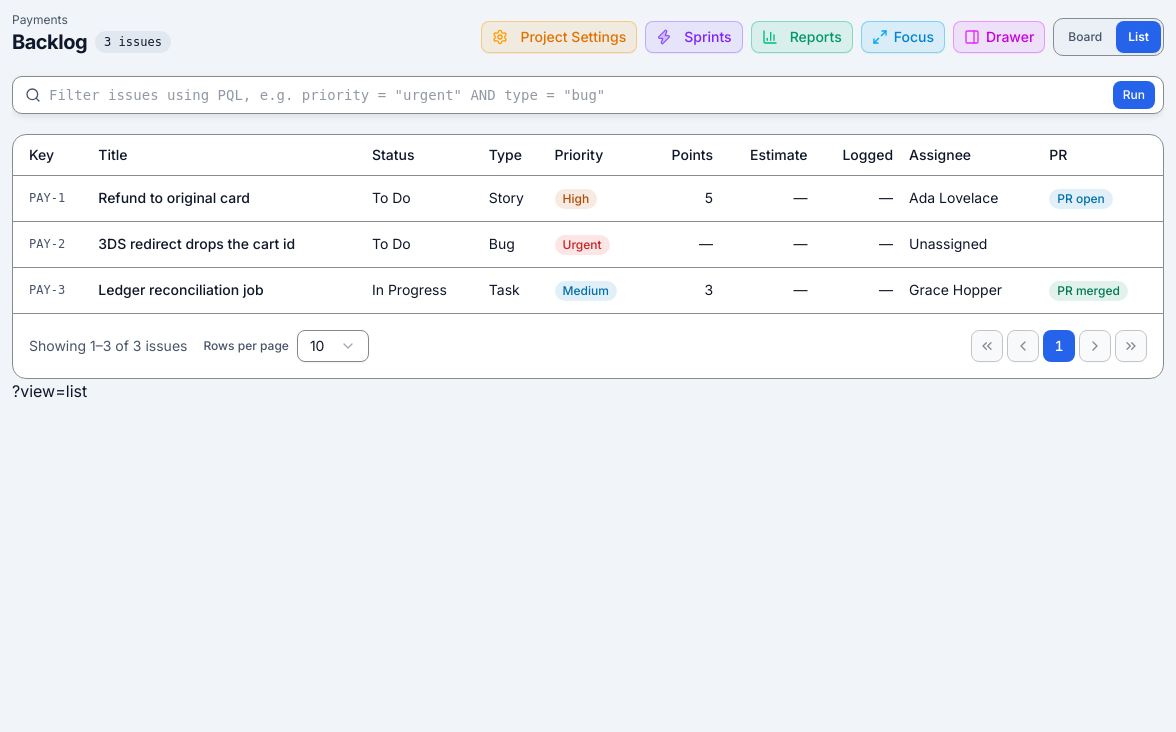
Test: <ListView> list view › opens straight into the list view from the URL, and back to the board without a fetch
Expected: the table named "Issues" is shown, [13,135,1163,312]
What coordinates should you click on to do the following:
click the button "Board"
I would click on:
 (1085, 37)
Its box is [1056,21,1114,53].
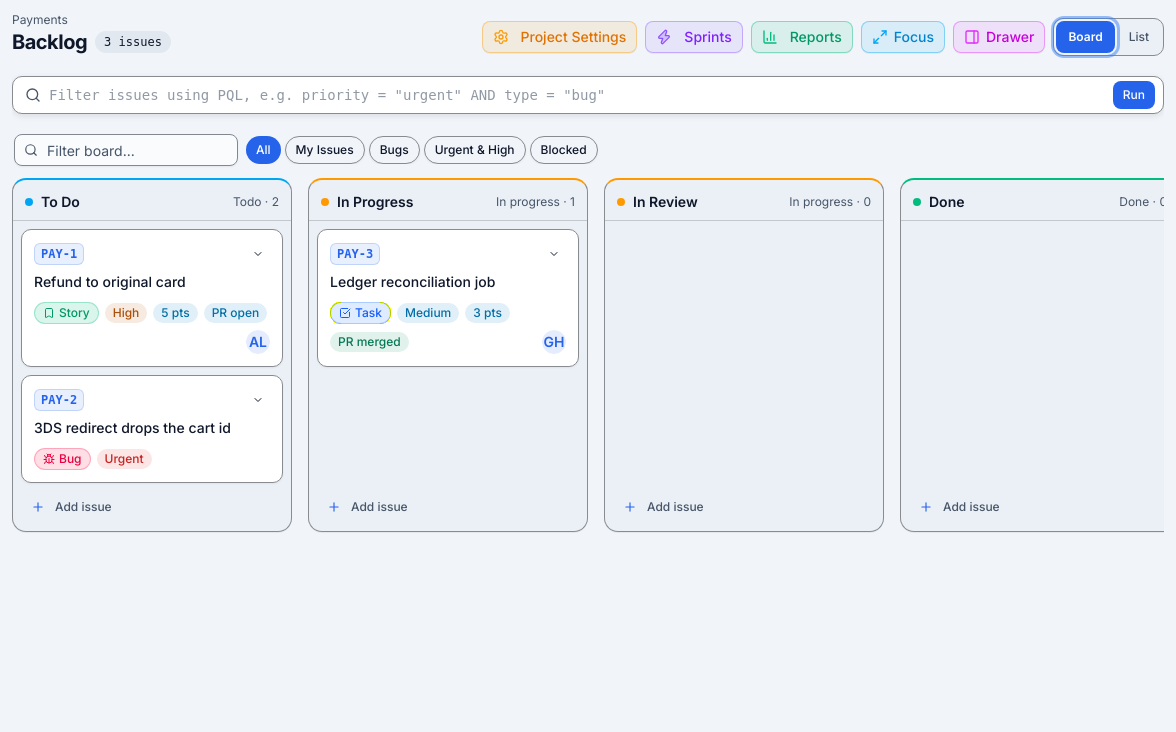
Result: the element "To Do" is shown at [12,178,292,532]
